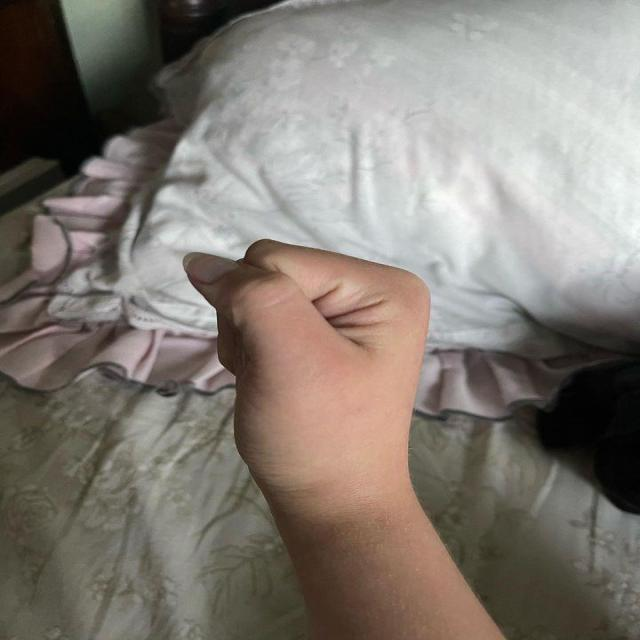A: (168, 231, 440, 504)
